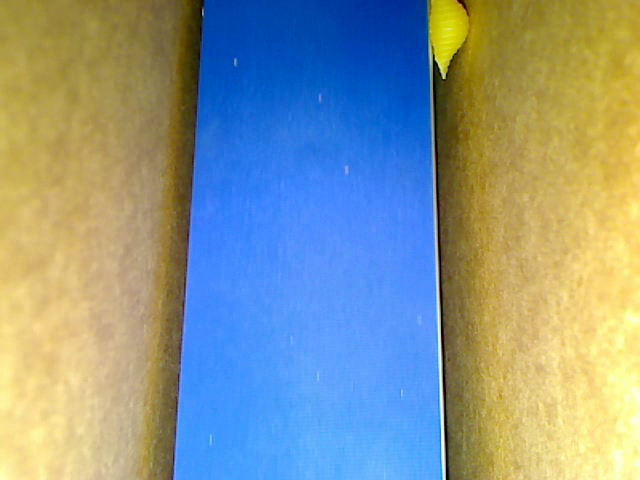shell: (425, 1, 469, 84)
